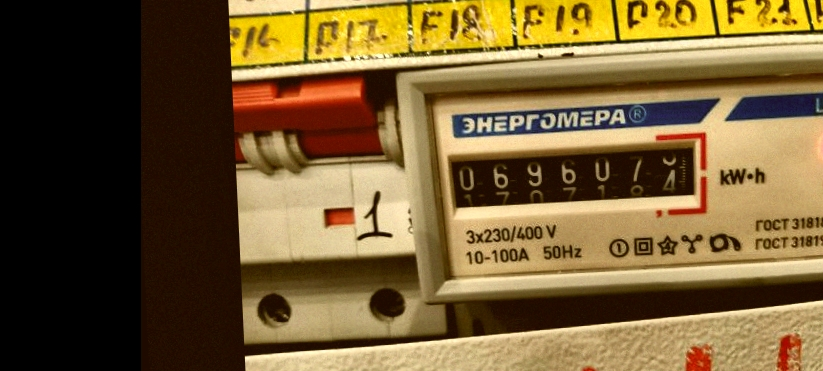0: (593, 152, 612, 183), (458, 162, 476, 191)
4: (660, 164, 679, 194)
6: (560, 155, 578, 184), (492, 160, 510, 188)
7: (627, 151, 647, 183)
9: (525, 158, 544, 187)
screen: (435, 127, 716, 224)
